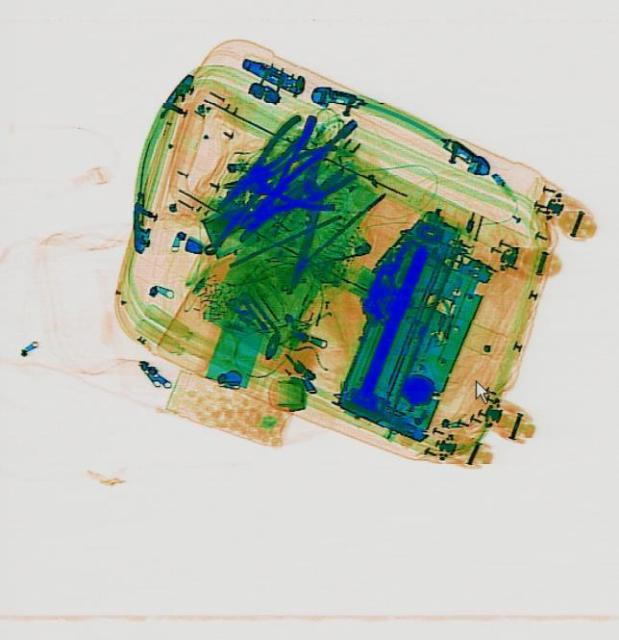Pliers: (230, 138, 359, 248), (204, 110, 317, 218)
